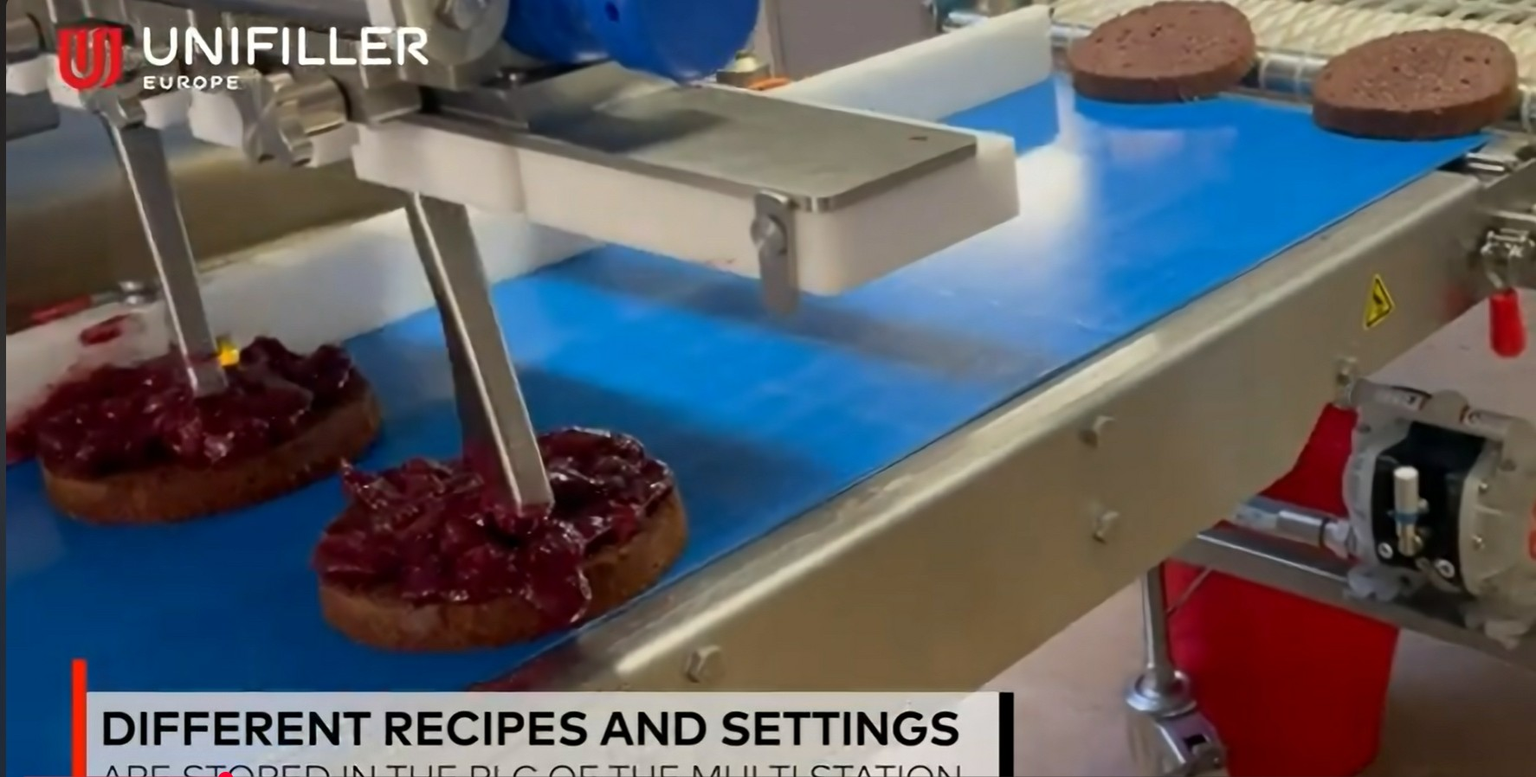Chocolate Cake: (1315, 33, 1522, 139), (1063, 5, 1250, 101)
Jam Coated: (312, 431, 693, 644), (32, 334, 378, 523)
